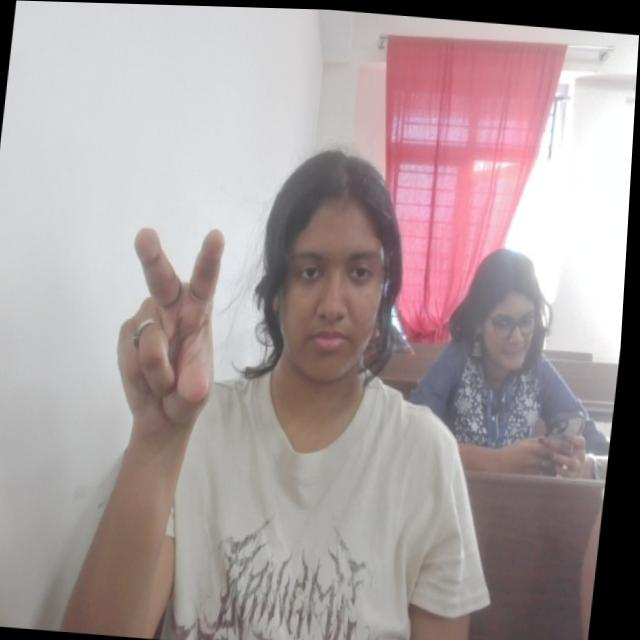no: (109, 214, 238, 427)
